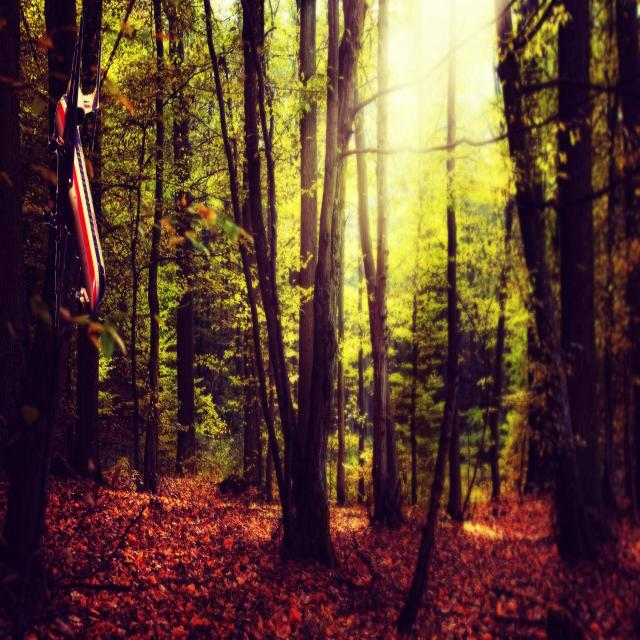airplane: (49, 13, 108, 327)
